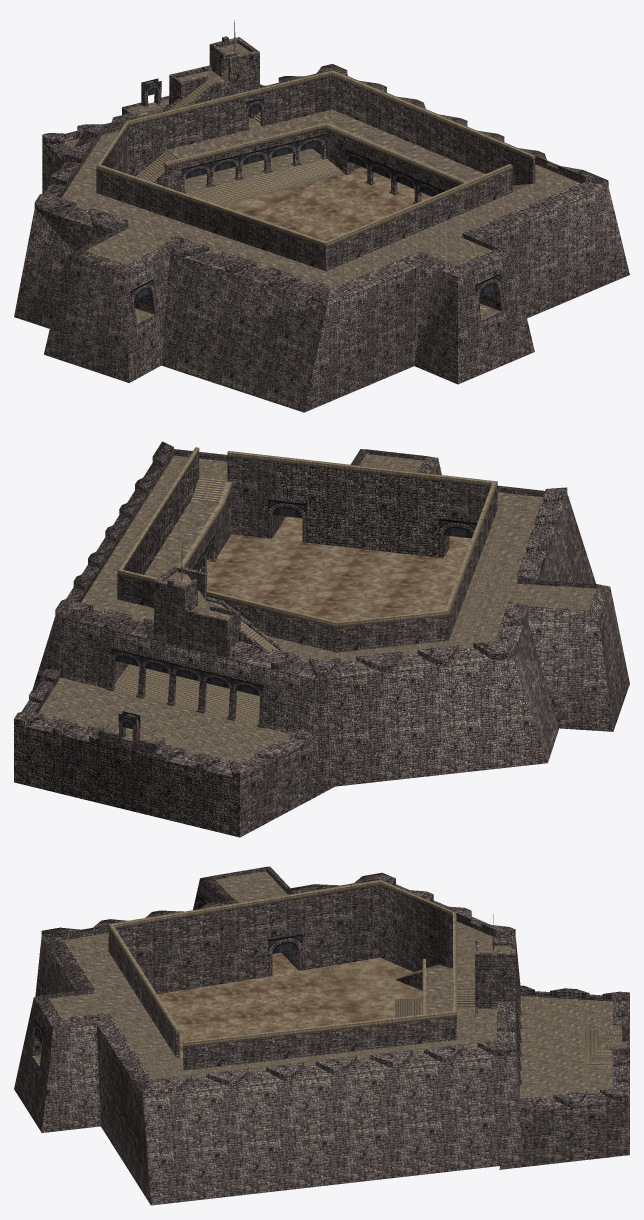
Rendered from fort_charles.fbx.
3 renders of one model, top to bottom at view 1: azimuth 30°, elevation 25°; view 2: azimuth 150°, elevation 25°; view 3: azimuth 270°, elevation 25°, orthographic. The views are drawn at different scales.
Visible parts, largest first — view 1: wall_exterior_01, wall_exterior, wall_interior_04, floor_catwalk_upper.001, entrance.001, wall_interior_01.001, floor_ground, parapet_01, parapet_02.001, interior_wall_trim.003, floor_catwalk_lower.001, floor_catwalk_upper (+16 smaller); view 2: wall_exterior_01, wall_exterior, balcony.003, floor_ground, floor_catwalk_upper.001, wall_interior_01.001, entrance.001, wall_interior_06, parapet_01, floor_balcony.001, floor_catwalk_upper, wall_tower.001 (+21 smaller); view 3: wall_exterior_01, wall_interior_01.001, floor_catwalk_upper.001, floor_ground, wall_interior_01, wall_interior_04, floor_balcony.001, floor_catwalk_upper, balcony.003, parapet_02.001, parapet_01, floor_ground.001 (+12 smaller).
Part boxes in pixels (box(x1,y1,x2,y2)): wall_exterior_01: box(14, 186, 629, 412); wall_exterior: box(27, 208, 507, 412); wall_interior_04: box(96, 76, 535, 271); floor_catwalk_upper.001: box(62, 130, 580, 289); entrance.001: box(44, 224, 169, 382); wall_interior_01.001: box(103, 76, 332, 176); floor_ground: box(253, 173, 431, 241); parapet_01: box(34, 64, 608, 304); parapet_02.001: box(184, 73, 607, 304); interior_wall_trim.003: box(96, 70, 535, 247); floor_catwalk_lower.001: box(167, 109, 485, 181); floor_catwalk_upper: box(63, 133, 579, 274); wall_exterior_01: box(32, 458, 567, 788); wall_exterior: box(58, 494, 595, 787); balcony.003: box(14, 724, 334, 837); floor_ground: box(199, 516, 471, 621); floor_catwalk_upper.001: box(81, 454, 595, 661); wall_interior_01.001: box(117, 462, 473, 652); entrance.001: box(517, 579, 629, 731); wall_interior_06: box(227, 457, 490, 652); parapet_01: box(55, 441, 567, 679); floor_balcony.001: box(38, 677, 290, 762); floor_catwalk_upper: box(81, 454, 594, 661); wall_tower.001: box(154, 565, 283, 657); wall_exterior_01: box(14, 937, 523, 1205); wall_interior_01.001: box(116, 885, 453, 1002); floor_catwalk_upper.001: box(49, 871, 496, 1080); floor_ground: box(157, 953, 422, 1055); wall_interior_01: box(116, 885, 379, 974); wall_interior_04: box(108, 928, 456, 1070); floor_balcony.001: box(421, 996, 612, 1099); floor_catwalk_upper: box(49, 871, 496, 1079); balcony.003: box(499, 1100, 629, 1169); parapet_02.001: box(34, 927, 515, 1095); parapet_01: box(41, 872, 515, 1096); floor_ground.001: box(303, 957, 422, 1022).
Bounding box in the file's own units: 44208 × 16273 × 45779.
Materials: 7 (7 with a texture image).
